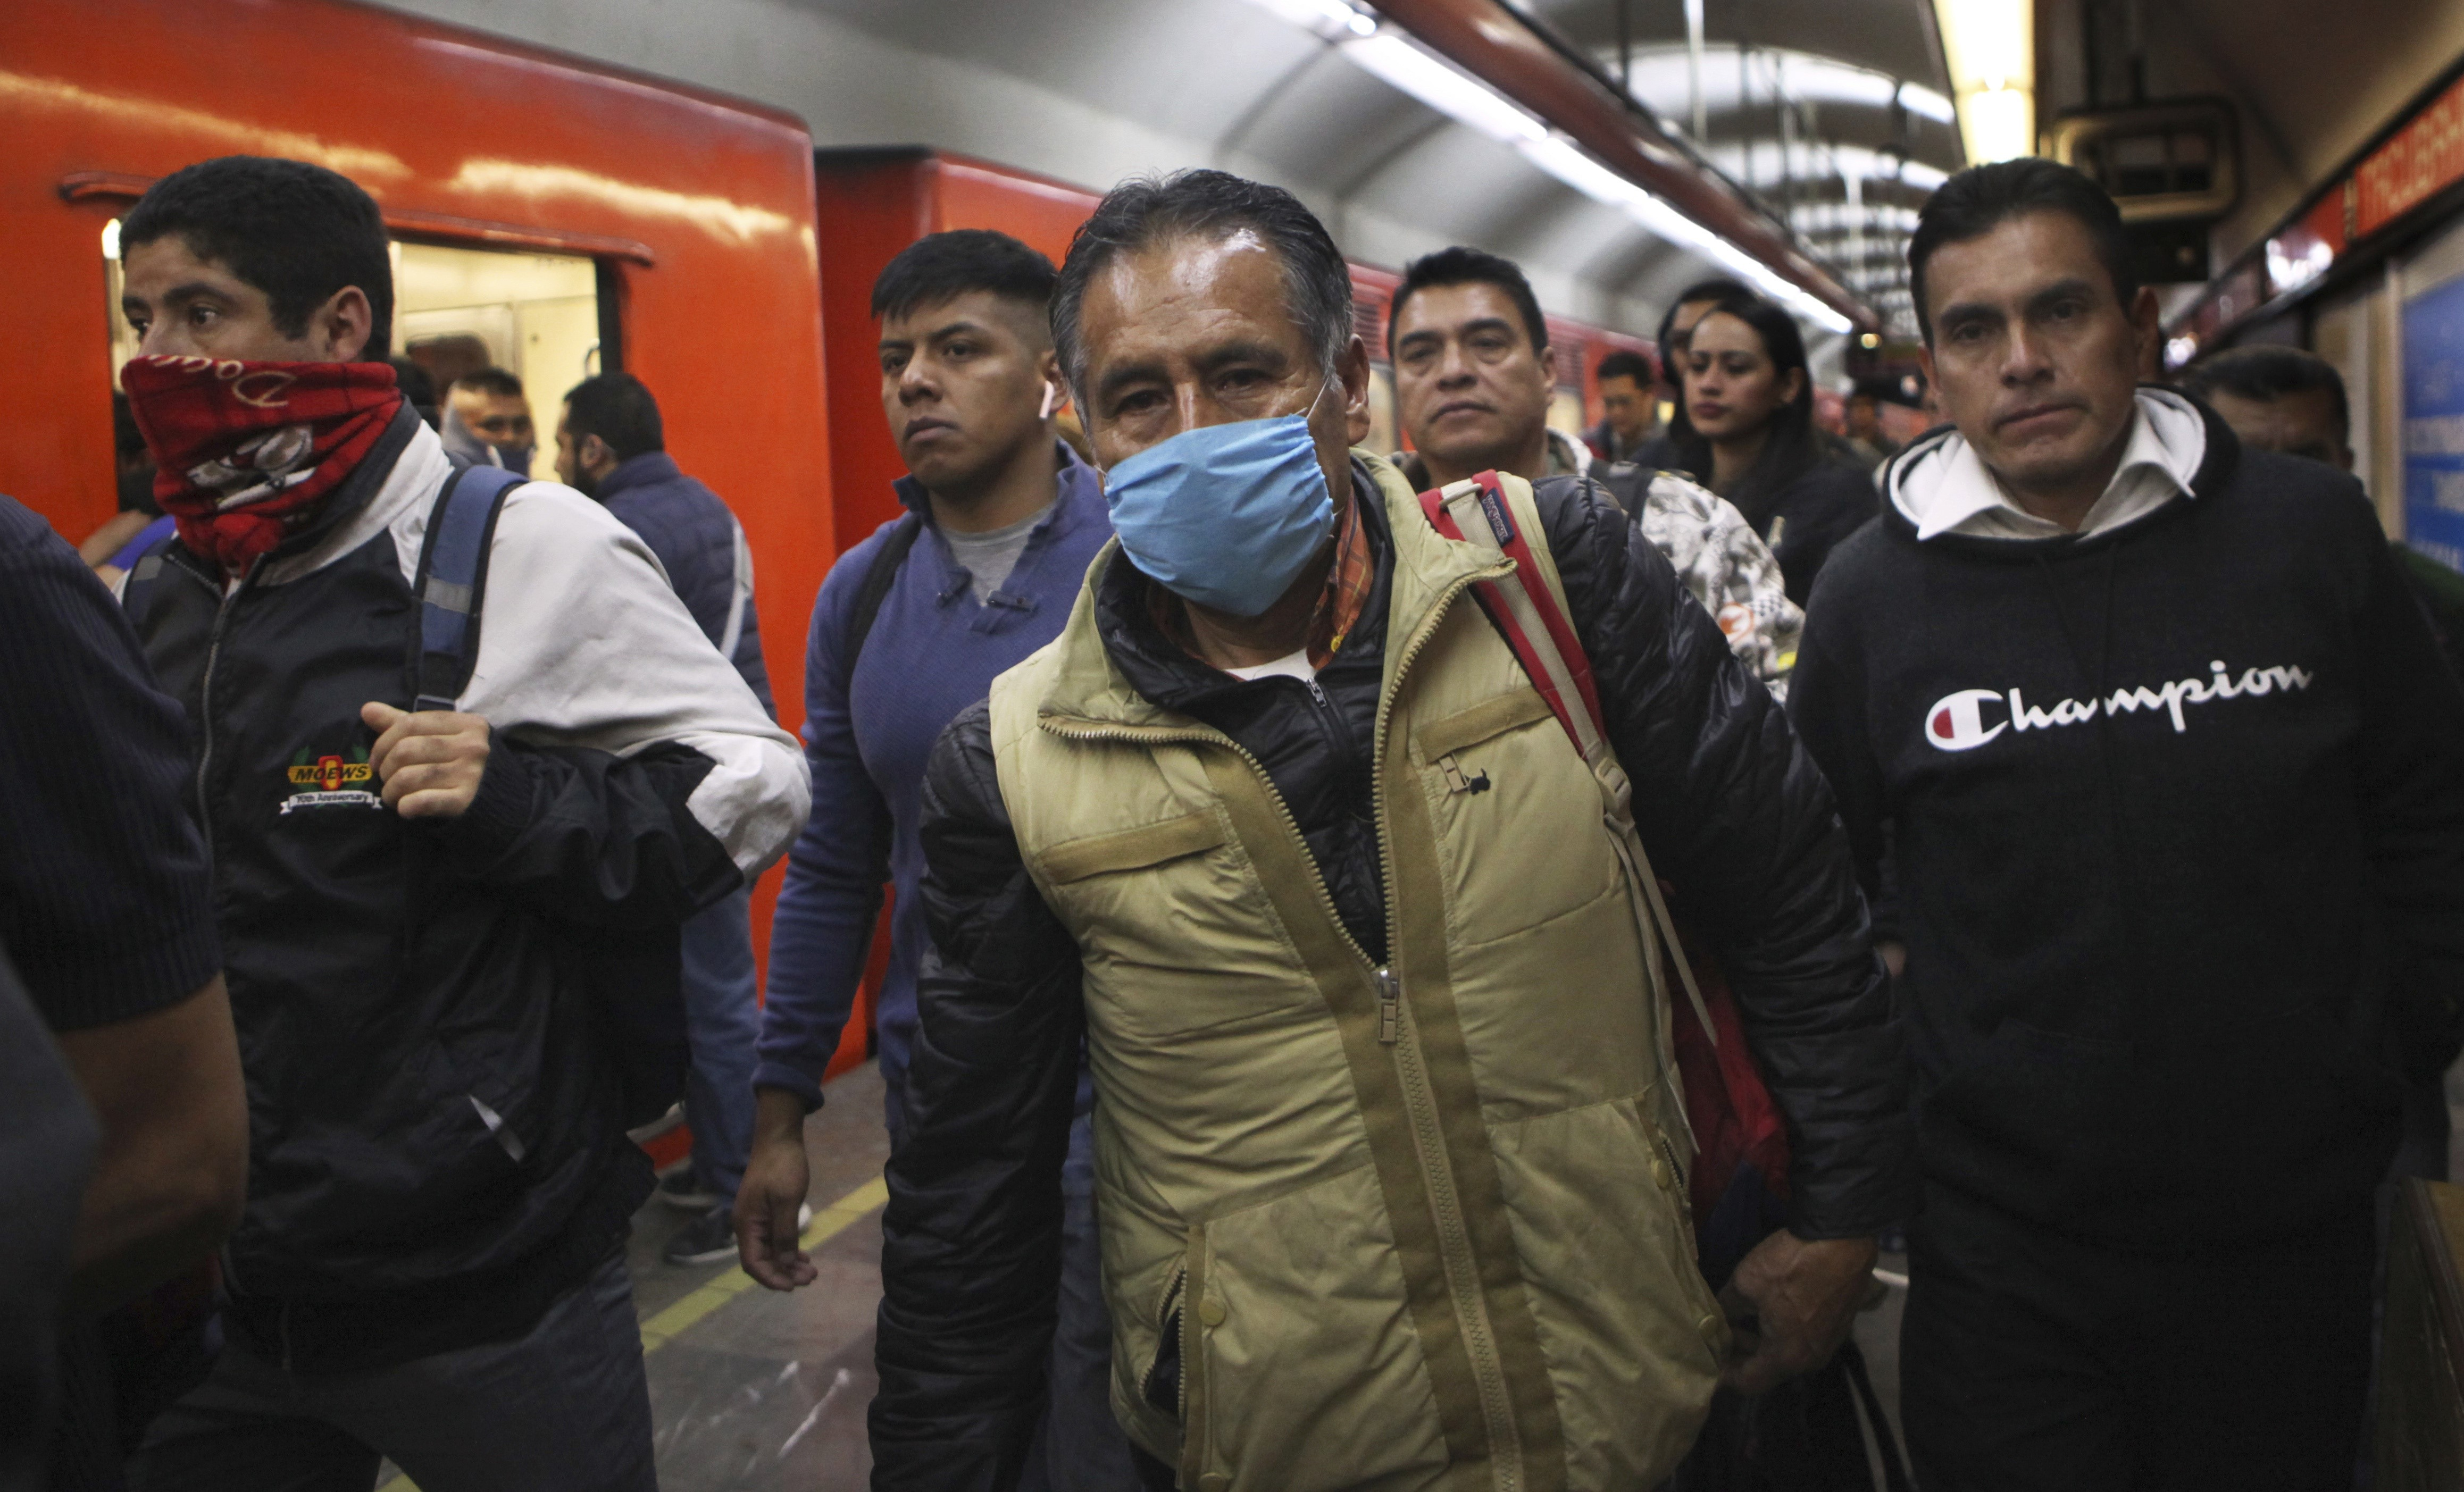face_no_mask: (1908, 156, 2159, 485), (860, 242, 1062, 512), (1390, 247, 1564, 473), (1677, 299, 1815, 434)
face_with_mask: (1064, 169, 1359, 614), (104, 150, 400, 515)
